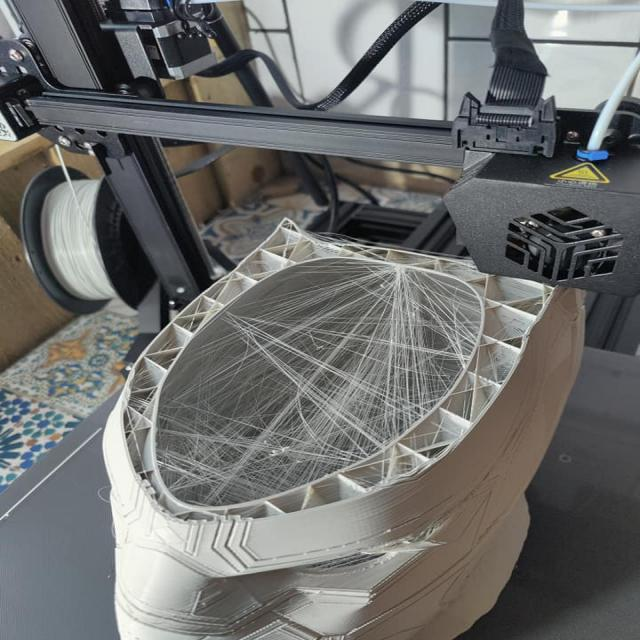Stringing: (124, 243, 486, 519)
